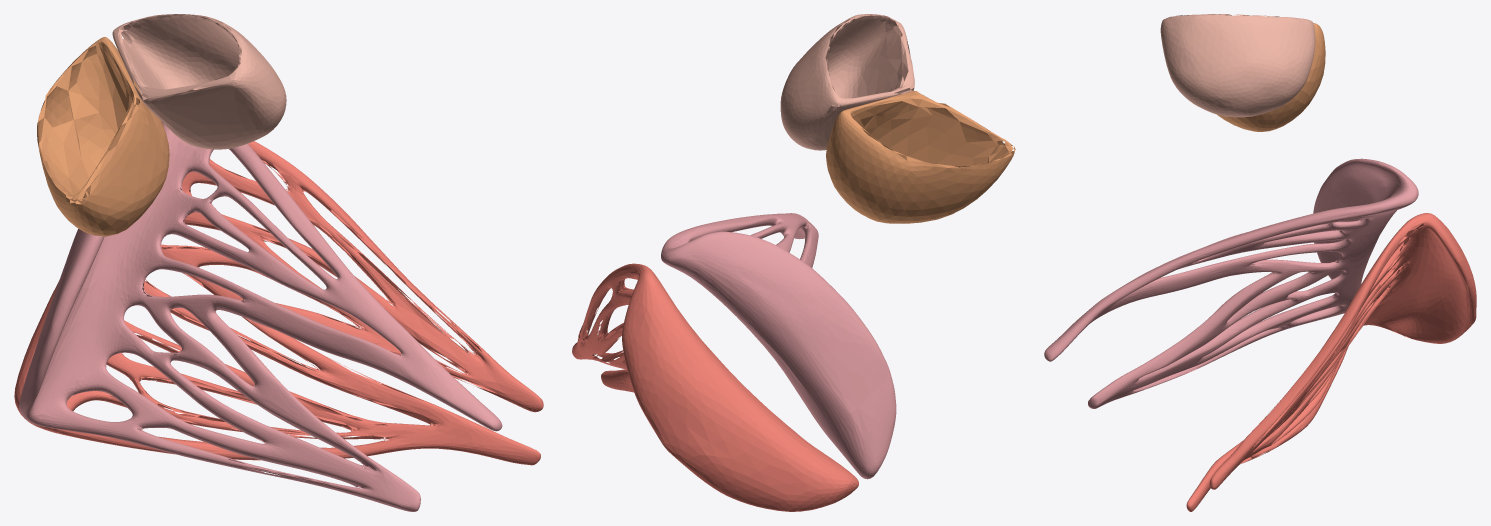
File: valvola_mitrale.glb
3 renders of one model, left to right at view 1: azimuth 30°, elevation 25°; view 2: azimuth 150°, elevation 25°; view 3: azimuth 270°, elevation 25°, orthographic. The views are drawn at different scales.
Parts seen in each view (by area): view 1: anterior leaflet of mitral valve, inferior wall of left ventricle, right posterior cusp of aortic valve, left posterior cusp of aortic valve; view 2: inferior wall of left ventricle, anterior leaflet of mitral valve, right posterior cusp of aortic valve, left posterior cusp of aortic valve; view 3: anterior leaflet of mitral valve, inferior wall of left ventricle, left posterior cusp of aortic valve, right posterior cusp of aortic valve.
Part boxes in pixels (box(x1,y1,x2,y2)): anterior leaflet of mitral valve: box(19, 121, 502, 511); inferior wall of left ventricle: box(14, 141, 543, 465); right posterior cusp of aortic valve: box(37, 37, 169, 236); left posterior cusp of aortic valve: box(112, 14, 286, 149); inferior wall of left ventricle: box(572, 263, 858, 511); anterior leaflet of mitral valve: box(661, 213, 896, 479); right posterior cusp of aortic valve: box(826, 91, 1015, 223); left posterior cusp of aortic valve: box(780, 14, 914, 150); anterior leaflet of mitral valve: box(1044, 158, 1418, 408); inferior wall of left ventricle: box(1186, 213, 1476, 511); left posterior cusp of aortic valve: box(1160, 14, 1315, 117); right posterior cusp of aortic valve: box(1217, 23, 1325, 131).
Size of the model in its own units: 56.94 by 55.29 by 55.95.
